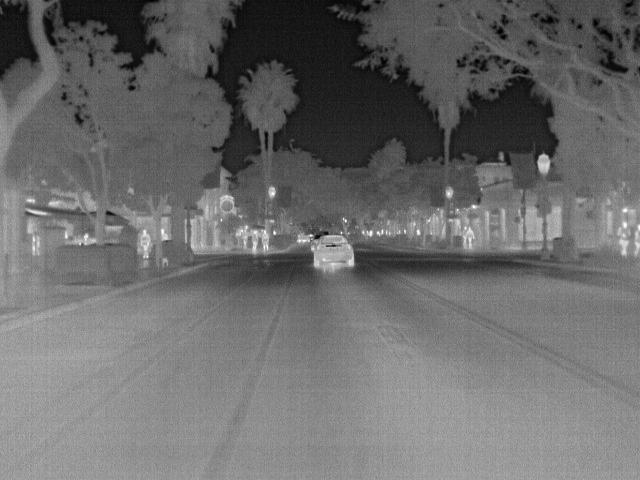car: (311, 233, 356, 269), (295, 232, 316, 246)
person: (617, 219, 632, 255), (138, 228, 152, 259), (259, 226, 272, 250), (248, 228, 261, 250), (464, 227, 477, 247)
